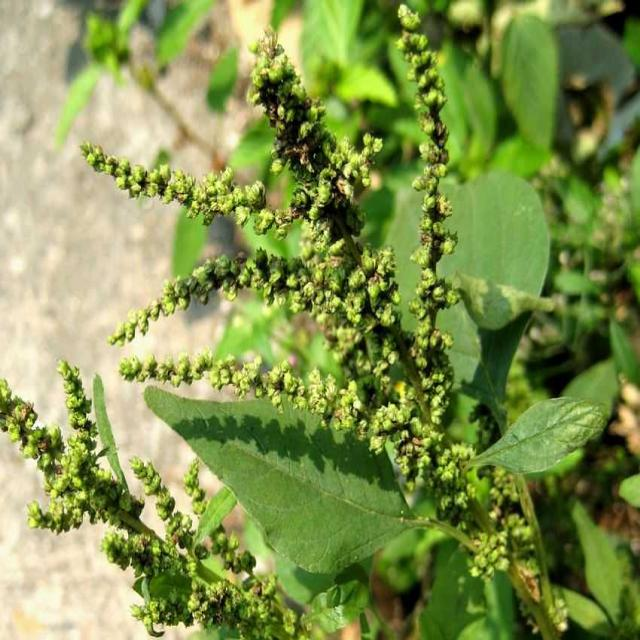Medicinal-Arive Dantu: (105, 23, 640, 610), (0, 333, 429, 640)
